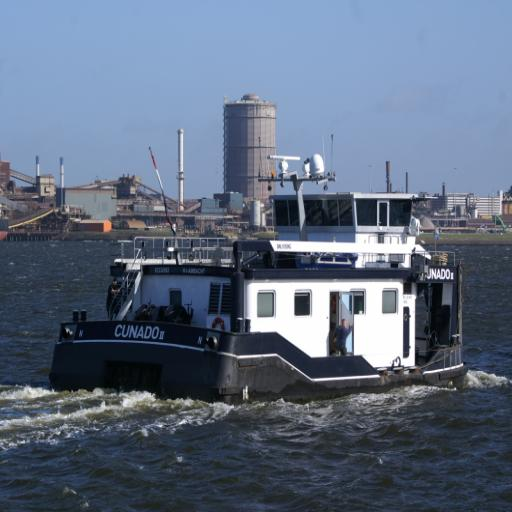tugboat: (45, 152, 473, 414)
